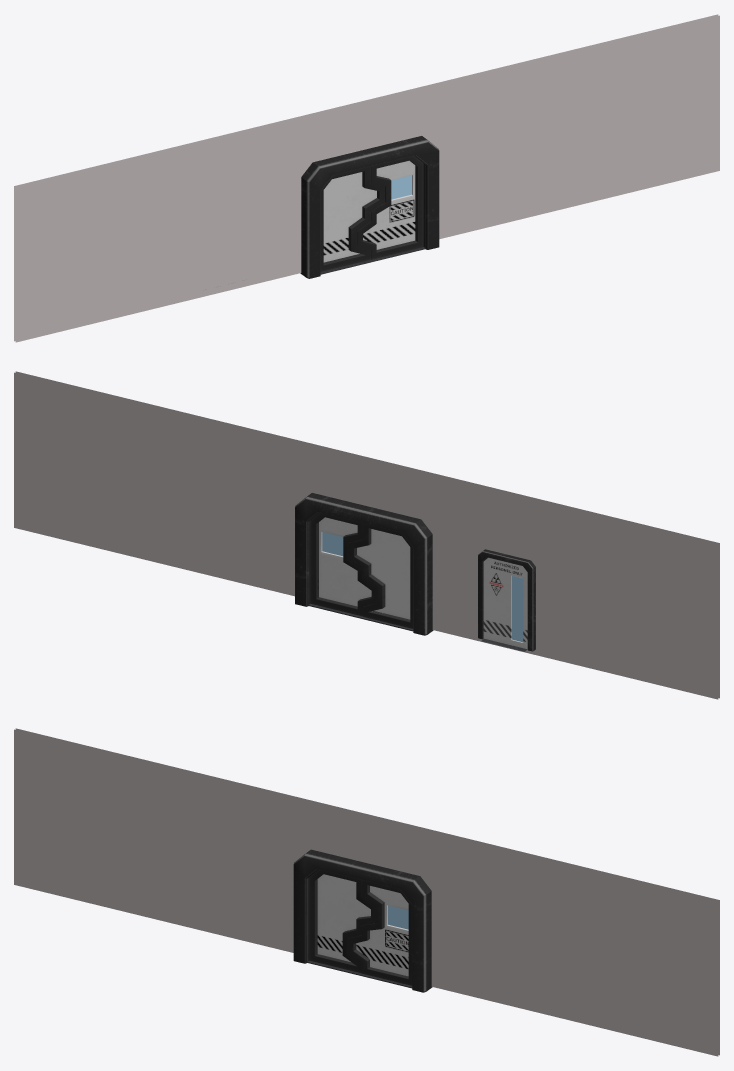
The model's file is wall1.fbx.
3 views of the same model, one above another, from view 1: azimuth 30°, elevation 25°; view 2: azimuth 150°, elevation 25°; view 3: azimuth 330°, elevation 25° (orthographic).
Visible parts, largest first — view 1: Plane__5_, Frame, Door_Right, Door_Left, Plane__2_; view 2: Plane__2_, Frame, Door_Right, Door_Left, Door, Frame_1, Plane__5_; view 3: Plane__5_, Frame, Door_Left, Door_Right, Plane__2_.
Boxes of the visible parts, x1,y1,x2,y2 form: Plane__5_: (15, 15, 719, 342); Frame: (300, 136, 439, 278); Door_Right: (357, 156, 423, 259); Door_Left: (320, 166, 385, 271); Plane__2_: (14, 14, 718, 341); Plane__2_: (14, 372, 718, 699); Frame: (295, 493, 433, 635); Door_Right: (310, 512, 376, 616); Door_Left: (348, 523, 413, 628); Door: (483, 557, 527, 649); Frame_1: (478, 549, 535, 651); Plane__5_: (15, 371, 719, 698); Plane__5_: (14, 729, 718, 1056); Frame: (293, 849, 432, 992); Door_Left: (309, 869, 376, 973); Door_Right: (348, 880, 412, 985); Plane__2_: (15, 728, 719, 1055).
Size of the model in its own units: 15657 by 3324 by 598.
Materials: 2 (1 with a texture image).
